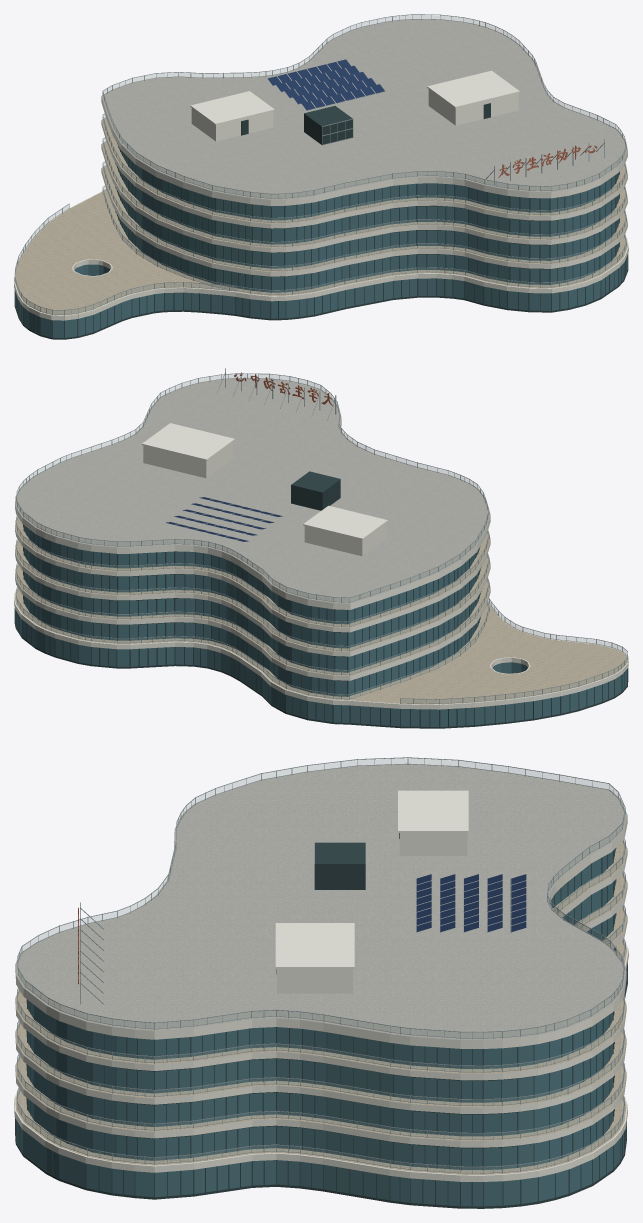
File: student-center.glb
The picture shows the model from 3 angles, top to bottom: view 1: azimuth 30°, elevation 25°; view 2: azimuth 150°, elevation 25°; view 3: azimuth 270°, elevation 25°; orthographic projection. The views are drawn at different scales.
Visible parts, largest first — view 1: landmark-student-center; view 2: landmark-student-center; view 3: landmark-student-center.
Boxes of the visible parts, x1,y1,x2,y2 form: landmark-student-center: [14, 14, 628, 339]; landmark-student-center: [14, 368, 628, 728]; landmark-student-center: [14, 757, 628, 1208].
Bounding box in the file's own units: 103 × 25.7 × 72.8.
Materials: 9 (2 with a texture image).
